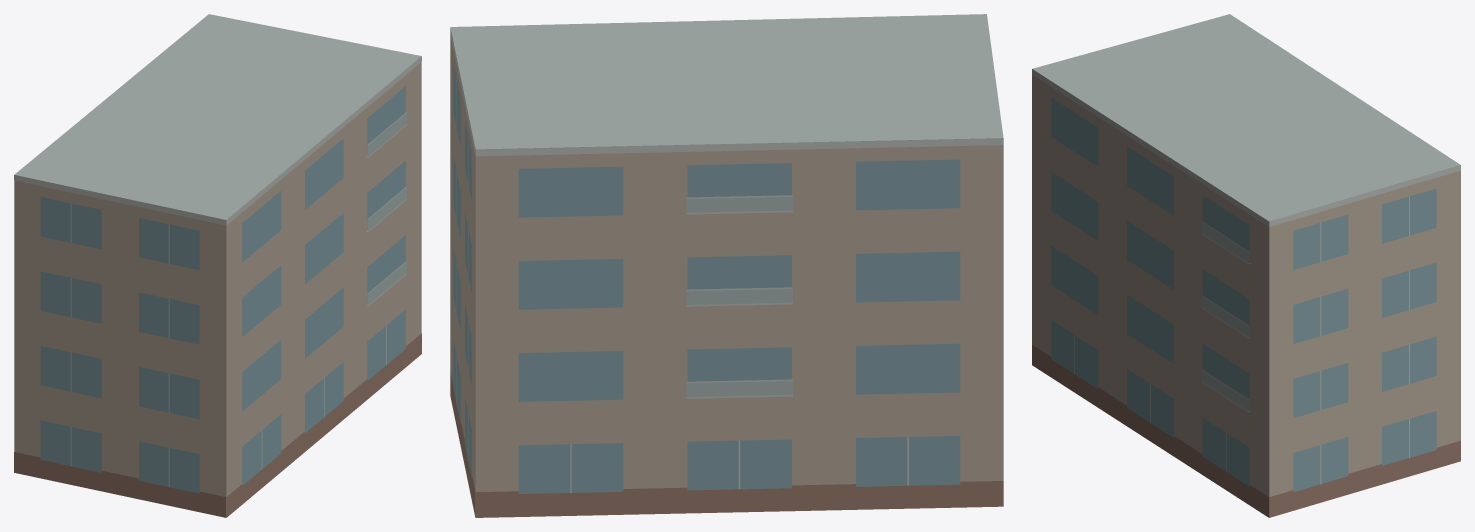
The model's file is survey-upis-32884925.glb.
3 views of the same model, side by side, from view 1: azimuth 30°, elevation 25°; view 2: azimuth 150°, elevation 25°; view 3: azimuth 270°, elevation 25° (orthographic). The views are drawn at different scales.
Parts seen in each view (by area): view 1: survey-upis-32884925.tmp; view 2: survey-upis-32884925.tmp; view 3: survey-upis-32884925.tmp.
Boxes of the visible parts, x1,y1,x2,y2 form: survey-upis-32884925.tmp: (14,14,421,517); survey-upis-32884925.tmp: (450,14,1003,517); survey-upis-32884925.tmp: (1032,14,1460,517).
Bounding box in the file's own units: 19.23 × 12.8 × 16.79.
